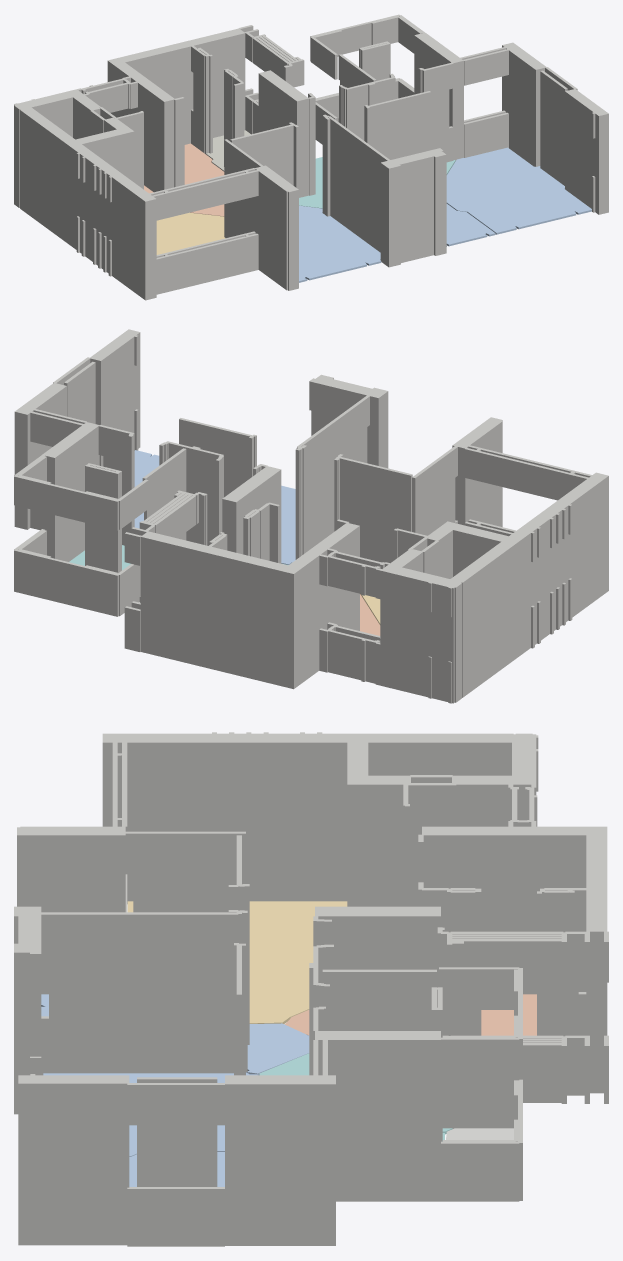
The picture shows the model from 3 angles, top to bottom: view 1: azimuth 30°, elevation 25°; view 2: azimuth 150°, elevation 25°; view 3: azimuth 270°, elevation 25°; orthographic projection. The views are drawn at different scales.
Parts seen in each view (by area): view 1: walls, room:bedroom:8, room:bedroom:6, room:living:9, room:kitchen:0, room:bedroom:7, room:bath:4, room:yard:1; view 2: walls, room:bedroom:7, room:bedroom:8, room:kitchen:0; view 3: walls, room:living:9, room:bedroom:6, room:kitchen:0, room:bedroom:7, room:ledge:3, room:bath:4.
Part boxes in pixels (box(x1,y1,x2,y2)): walls: box(14, 14, 608, 300); room:bedroom:8: box(446, 147, 591, 234); room:bedroom:6: box(299, 205, 381, 282); room:living:9: box(156, 212, 225, 254); room:kitchen:0: box(144, 143, 224, 216); room:bedroom:7: box(446, 204, 495, 246); room:bath:4: box(299, 157, 322, 208); room:yard:1: box(206, 130, 250, 171); walls: box(14, 329, 608, 703); room:bedroom:7: box(281, 485, 295, 564); room:bedroom:8: box(134, 450, 159, 528); room:kitchen:0: box(360, 594, 380, 635); walls: box(14, 732, 608, 1246); room:living:9: box(127, 901, 347, 1023); room:bedroom:6: box(41, 994, 309, 1075); room:kitchen:0: box(285, 994, 536, 1035); room:bedroom:7: box(43, 1072, 257, 1156); room:ledge:3: box(446, 1128, 513, 1139); room:bath:4: box(259, 1053, 452, 1134).
Size of the model in its own units: 13.1 by 2.8 by 9.33.
